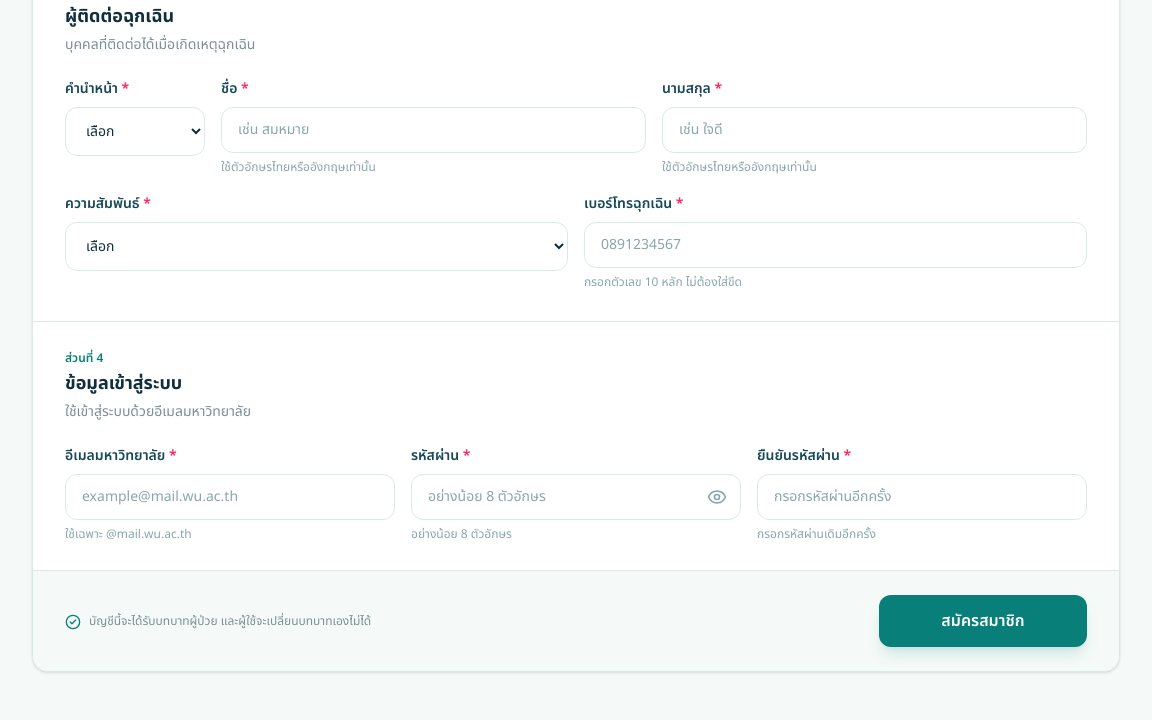
Test: registration validation › shows field errors and does not submit invalid information
(page scrolled)
Click the button "สมัครสมาชิก".
click(983, 621)  # box [879, 595, 1087, 647]
(page scrolled)
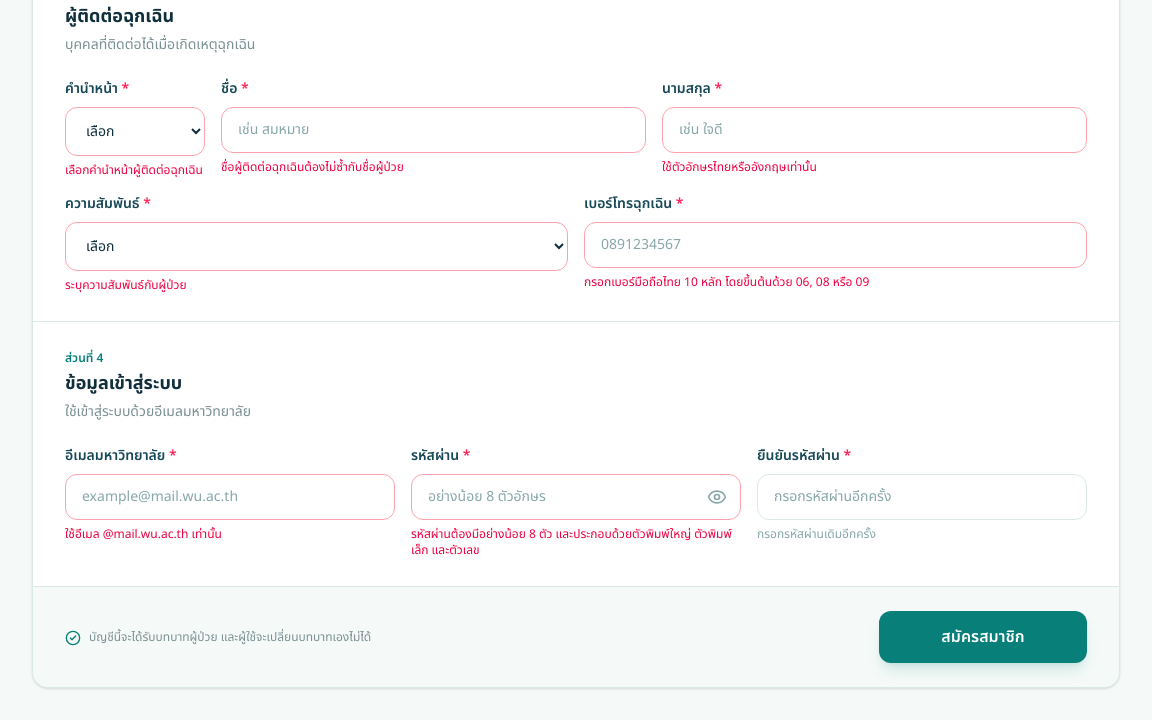
Expected: the text "ใช้อีเมล @mail.wu.ac.th เท่านั้น" is shown, [65, 525, 222, 543]
Expected: the text "ระบุความสัมพันธ์กับผู้ป่วย" is shown, [65, 276, 187, 294]
